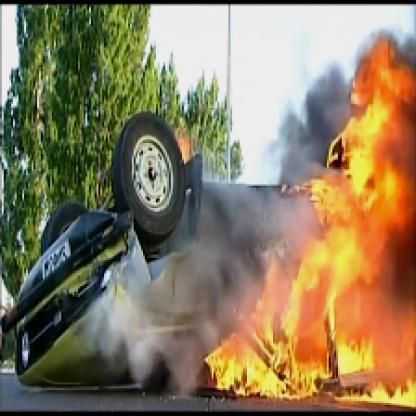Fire: (204, 39, 414, 409)
